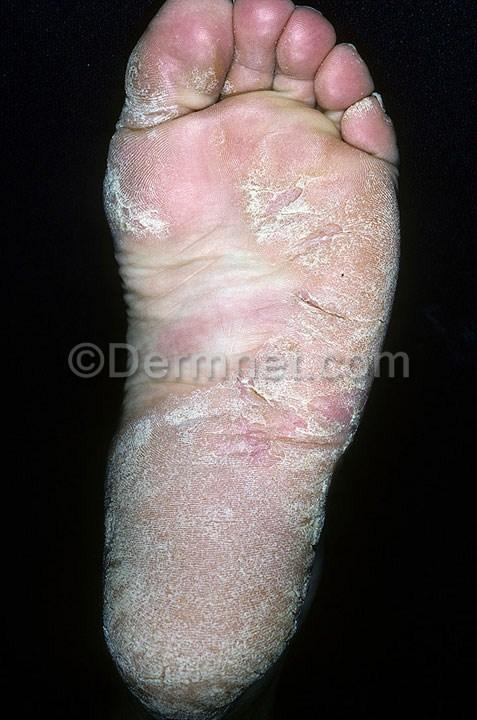Eczema: (100, 408, 275, 710), (231, 133, 405, 348), (285, 385, 366, 532), (89, 137, 186, 256), (109, 52, 210, 133)
